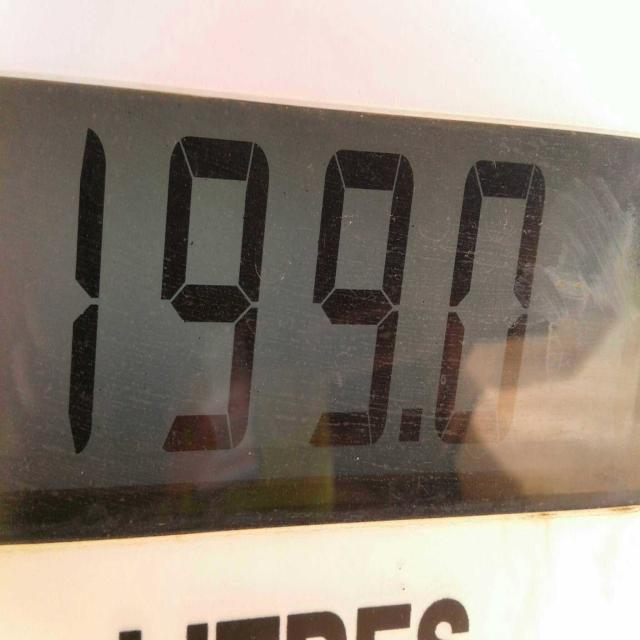.: (389, 380, 434, 480)
0: (424, 128, 566, 466)
1: (49, 103, 130, 480)
9: (143, 109, 276, 476), (297, 128, 414, 474)
